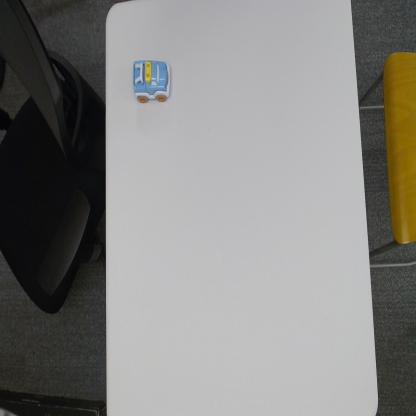Car: (132, 57, 171, 106)
